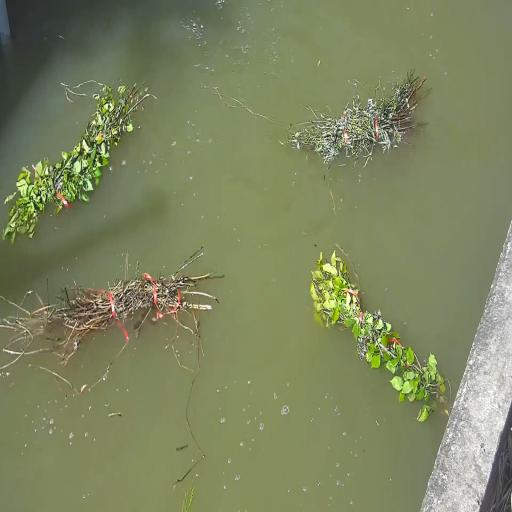twig: (300, 252, 450, 413), (0, 75, 143, 242), (40, 247, 197, 354), (296, 76, 427, 166)
